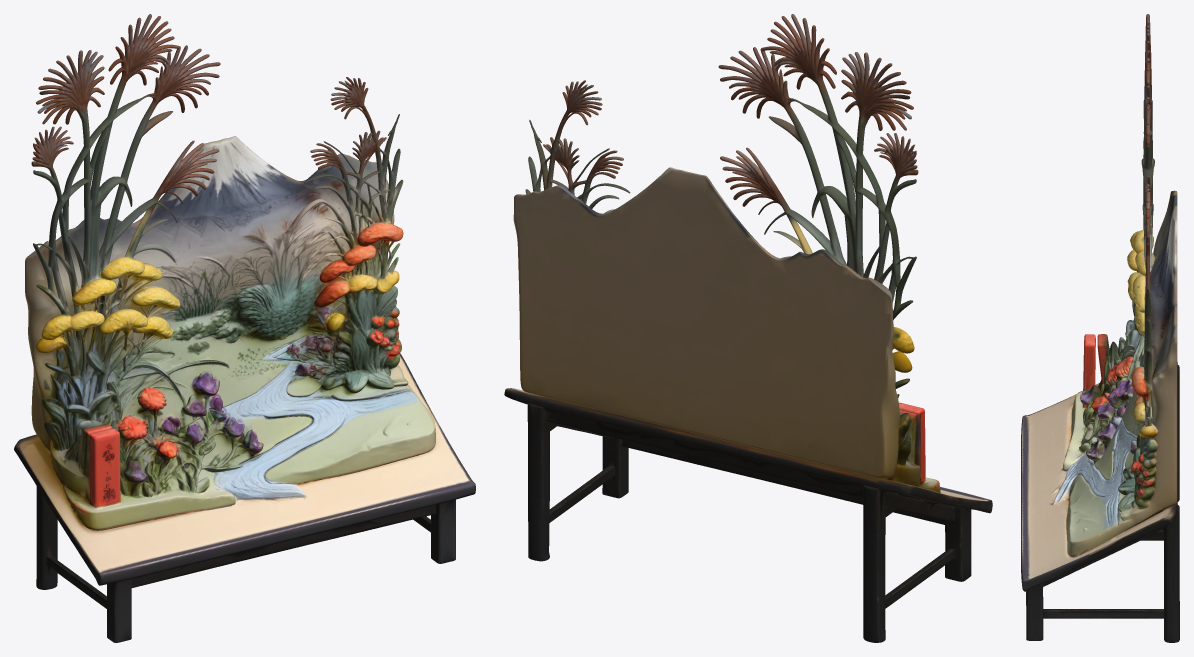
The model's file is you-can-call-me-ai.glb.
3 renders of one model, left to right at view 1: azimuth 30°, elevation 25°; view 2: azimuth 150°, elevation 25°; view 3: azimuth 270°, elevation 25°, orthographic. The views are drawn at different scales.
Parts seen in each view (by area): view 1: material; view 2: material; view 3: material.
Boxes of the visible parts, x1,y1,x2,y2 form: material: [14, 14, 475, 642]; material: [504, 14, 992, 642]; material: [1021, 14, 1179, 642].
Size of the model in its own units: 0.7137 by 0.9926 by 0.2825.
1 material, 1 textured.
